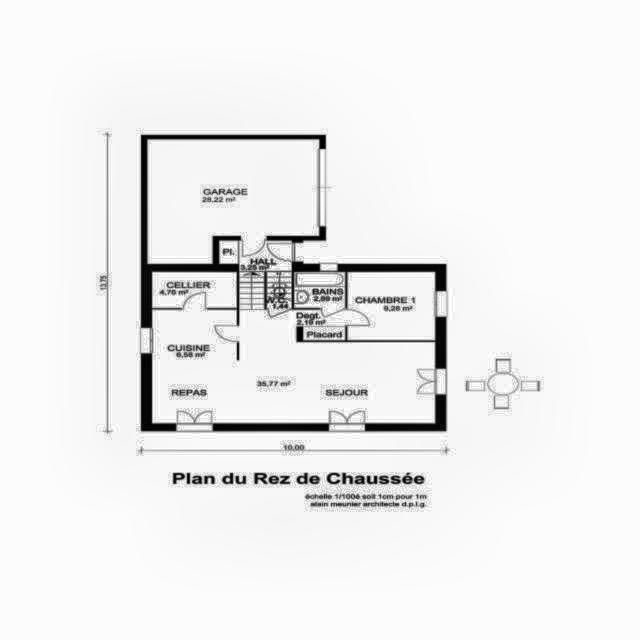room: (152, 309, 435, 424), (147, 139, 320, 264), (347, 272, 435, 341), (219, 240, 292, 309), (152, 272, 237, 308), (294, 272, 345, 308)
